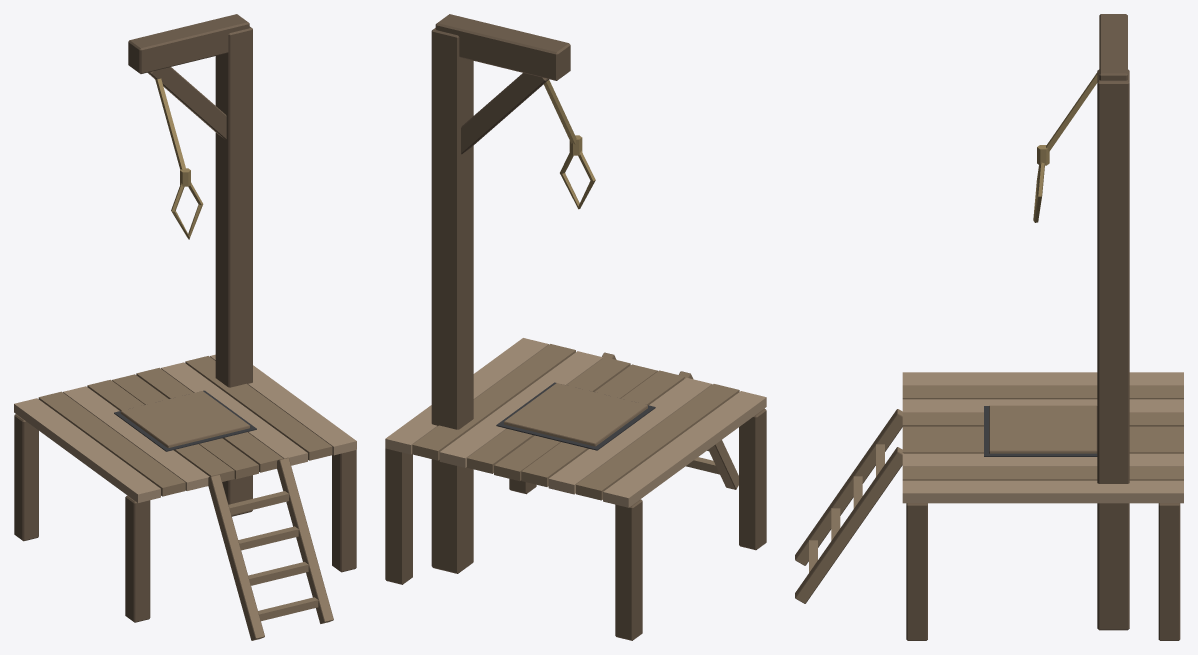
Rendered from gallows.glb.
3 views of the same model, side by side, from view 1: azimuth 30°, elevation 25°; view 2: azimuth 150°, elevation 25°; view 3: azimuth 270°, elevation 25° (orthographic). The views are drawn at different scales.
Visible parts, largest first — view 1: Gallows; view 2: Gallows; view 3: Gallows.
Part boxes in pixels (left/top/right/bottom): Gallows: left=14, top=14, right=356, bottom=640; Gallows: left=385, top=14, right=766, bottom=640; Gallows: left=795, top=14, right=1183, bottom=640.
Bounding box in the file's own units: 1.62 × 3.42 × 2.16.
